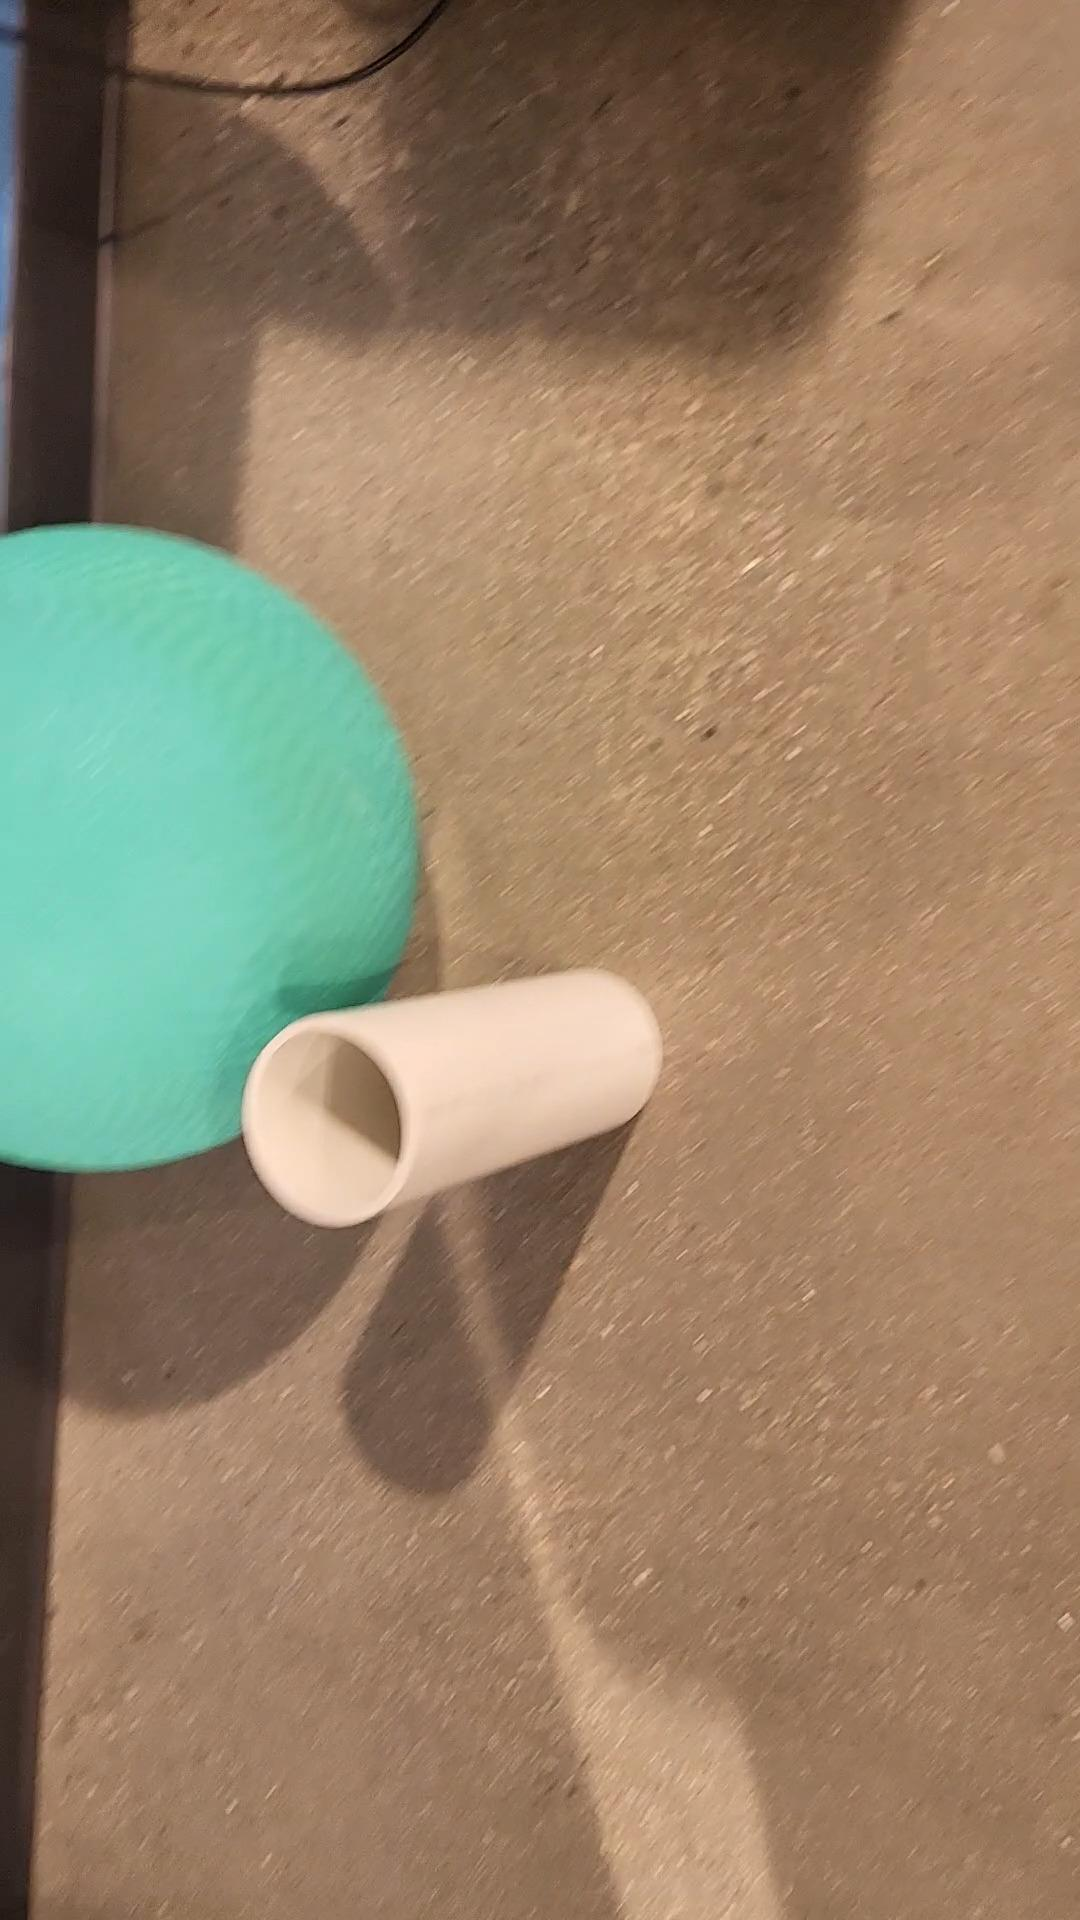algae: (0, 525, 417, 1174)
coral: (245, 967, 661, 1224)
